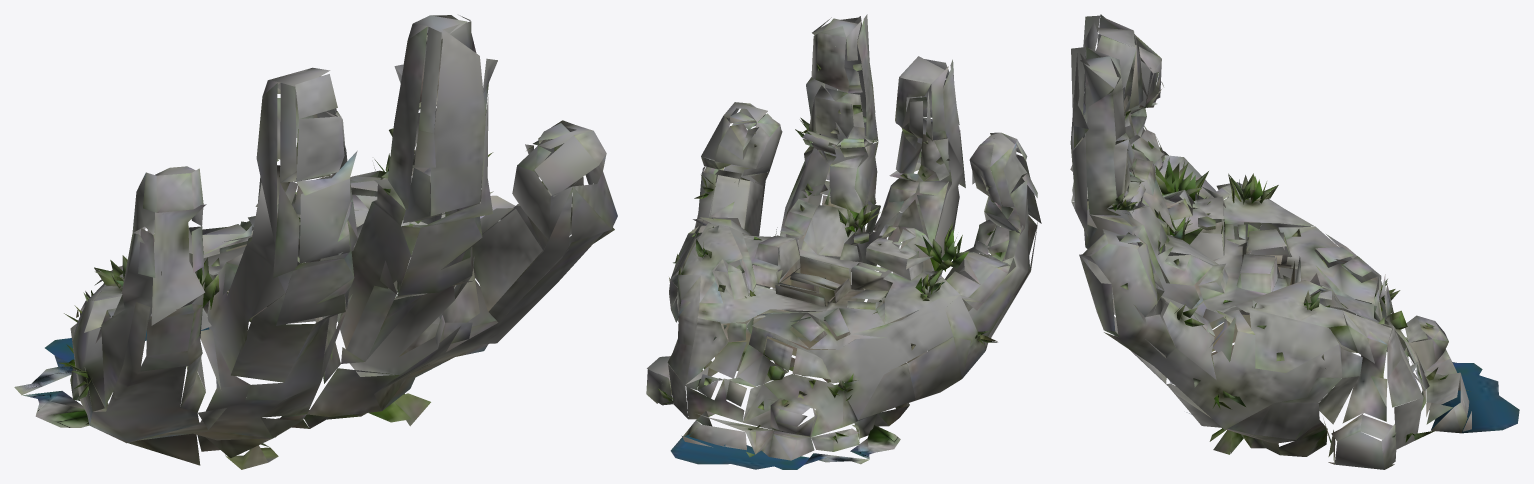
Rendered from stat_hand.glb.
3 renders of one model, left to right at view 1: azimuth 30°, elevation 25°; view 2: azimuth 150°, elevation 25°; view 3: azimuth 270°, elevation 25°, orthographic. The views are drawn at different scales.
Parts seen in each view (by area): view 1: tripo_node_c8abeb62-7da5-4f66-b568-d4613b30263f; view 2: tripo_node_c8abeb62-7da5-4f66-b568-d4613b30263f; view 3: tripo_node_c8abeb62-7da5-4f66-b568-d4613b30263f.
Boxes of the visible parts, left/top/right/bottom form: tripo_node_c8abeb62-7da5-4f66-b568-d4613b30263f: left=14, top=15, right=617, bottom=469; tripo_node_c8abeb62-7da5-4f66-b568-d4613b30263f: left=646, top=14, right=1041, bottom=469; tripo_node_c8abeb62-7da5-4f66-b568-d4613b30263f: left=1070, top=14, right=1519, bottom=469.
Bounding box in the file's own units: 0.997 × 0.9291 × 0.9962.
Materials: 1 (1 with a texture image).
